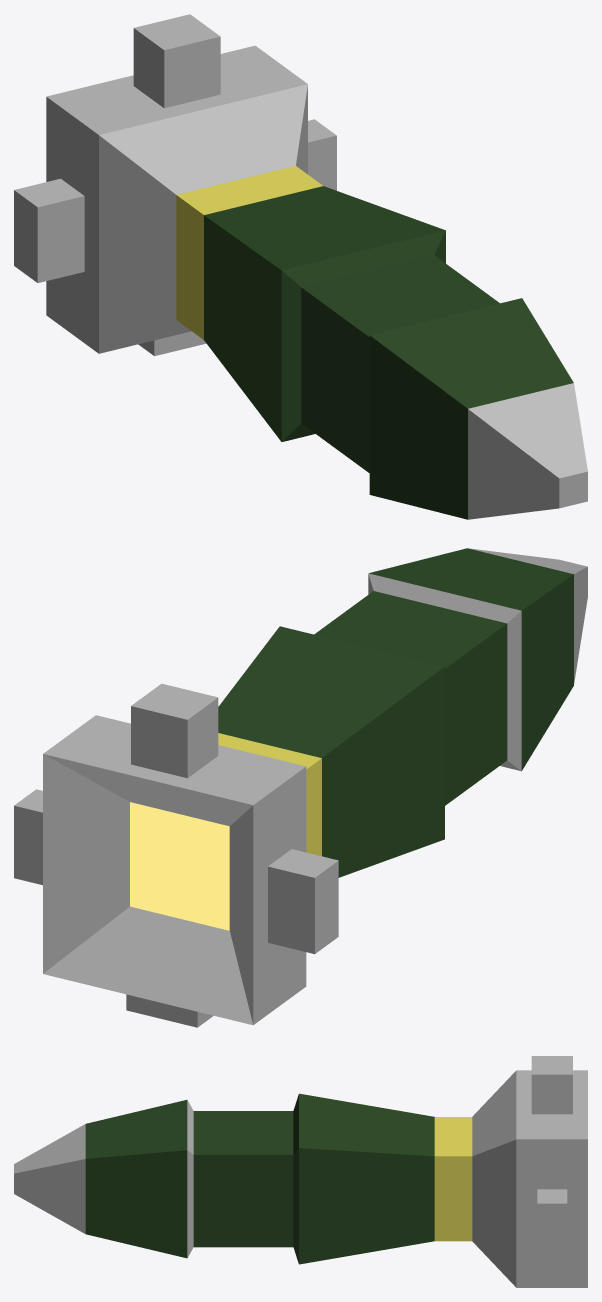
File: Mortar.fbx
The picture shows the model from 3 angles, top to bottom: view 1: azimuth 30°, elevation 25°; view 2: azimuth 150°, elevation 25°; view 3: azimuth 270°, elevation 25°; orthographic projection. The views are drawn at different scales.
Visible parts, largest first — view 1: Mortar; view 2: Mortar; view 3: Mortar.
Part boxes in pixels (<box>): Mortar: <box>14,14,587,519</box>; Mortar: <box>14,548,587,1027</box>; Mortar: <box>14,1056,587,1287</box>.
Bounding box in the file's own units: 0.2028 × 0.1979 × 0.4953.
